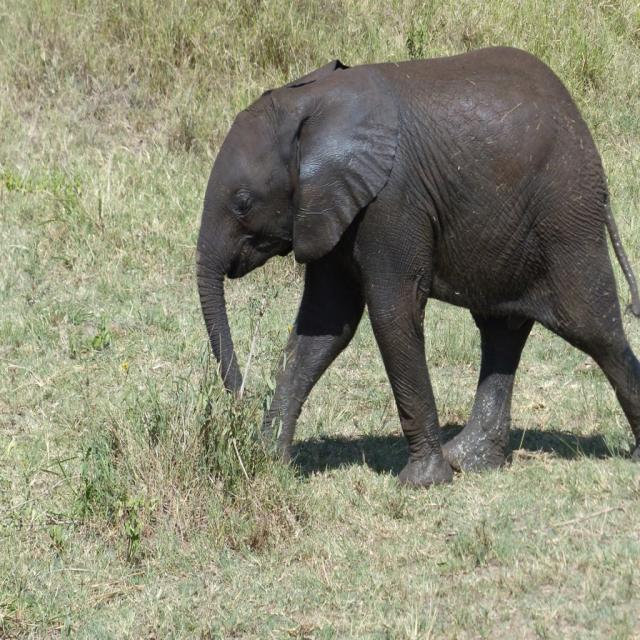elephant: (188, 43, 638, 502)
